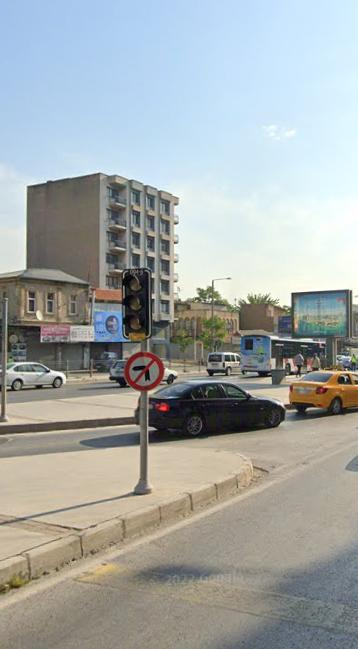leftturnsareforbidden: (128, 354, 163, 390)
